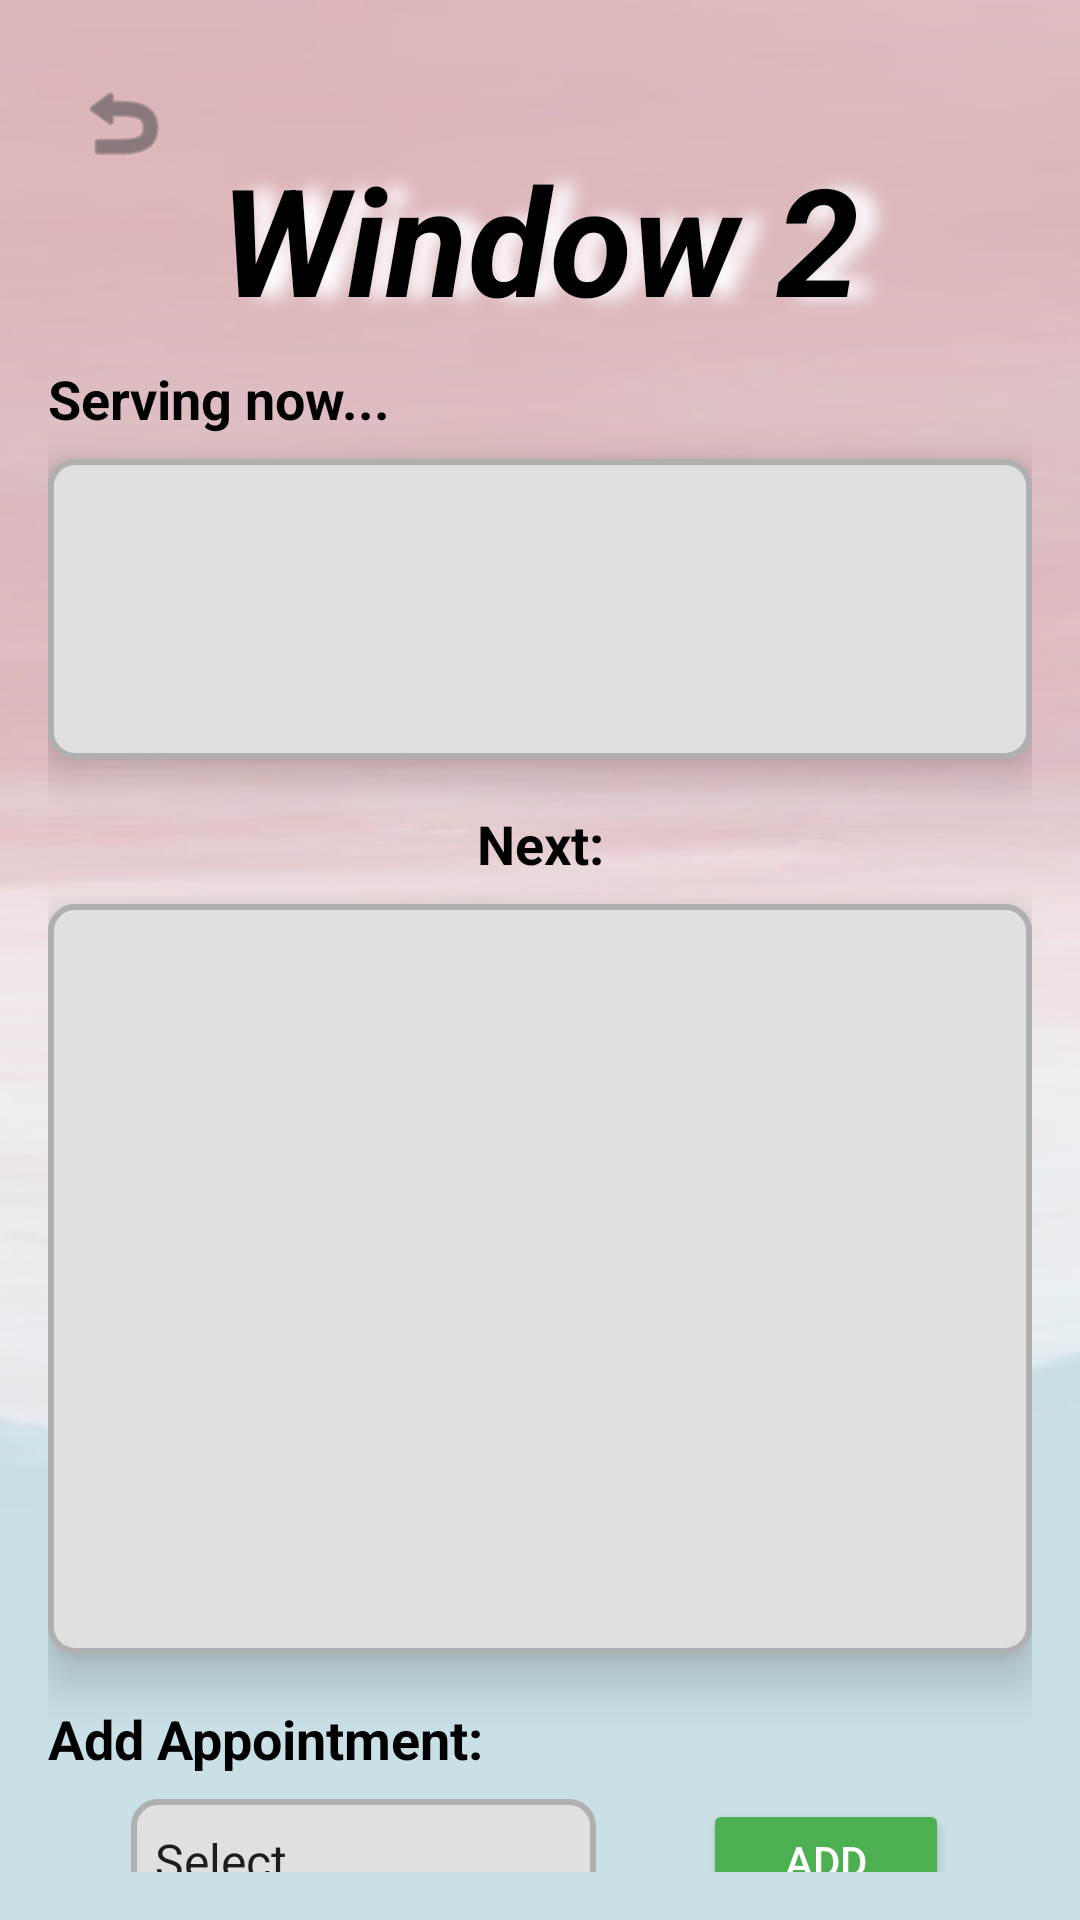

Screen size 1080px x 1920px. Icon name, then its center in pixels as (x,y):
Back: (124,124)
